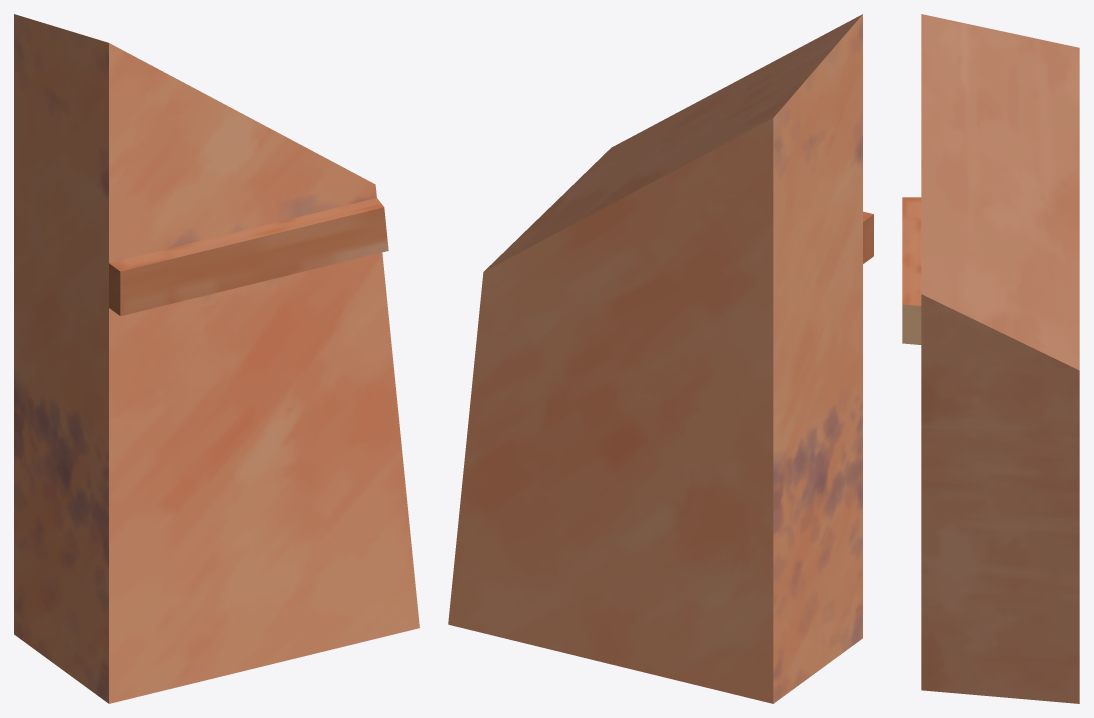
The model's file is wall2_upper_shutter_s08.fbx.
3 renders of one model, left to right at view 1: azimuth 30°, elevation 25°; view 2: azimuth 150°, elevation 25°; view 3: azimuth 270°, elevation 25°, orthographic. The views are drawn at different scales.
Parts seen in each view (by area): view 1: wall2_upper_shutter_s08; view 2: wall2_upper_shutter_s08; view 3: wall2_upper_shutter_s08.
Boxes of the visible parts, bbox=[...] form: wall2_upper_shutter_s08: bbox=[14, 14, 419, 703]; wall2_upper_shutter_s08: bbox=[448, 14, 873, 703]; wall2_upper_shutter_s08: bbox=[902, 14, 1079, 703].
Size of the model in its own units: 2.09 by 3.84 by 1.12.
